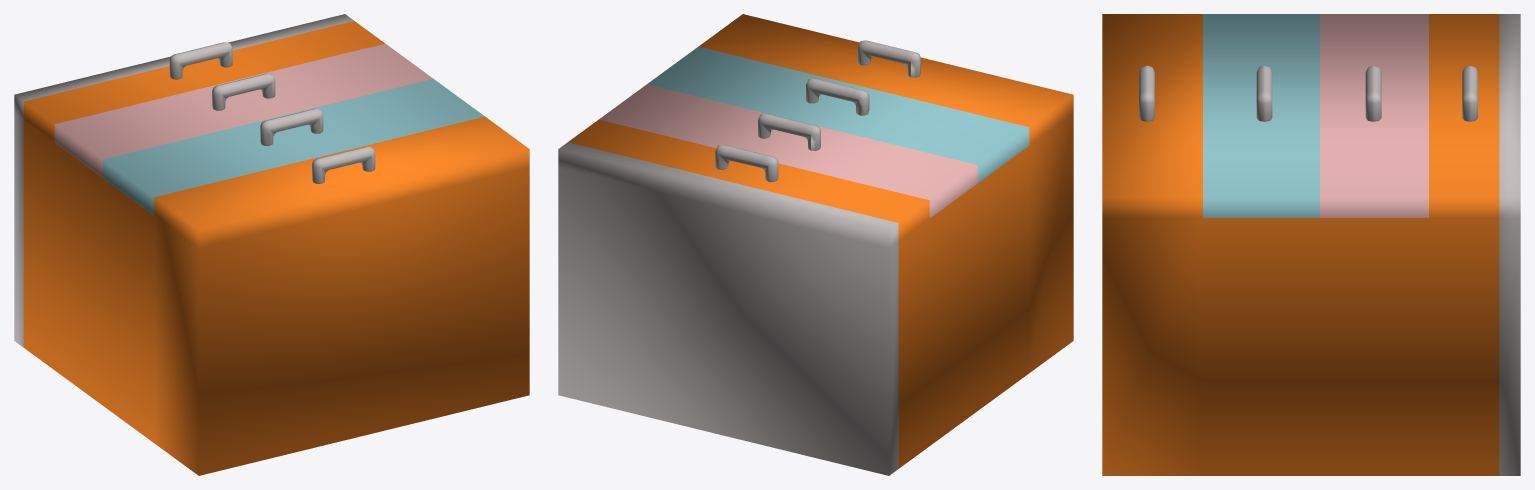
The picture shows the model from 3 angles, left to right: view 1: azimuth 30°, elevation 25°; view 2: azimuth 150°, elevation 25°; view 3: azimuth 270°, elevation 25°; orthographic projection. The views are drawn at different scales.
Parts seen in each view (by area): view 1: Cube.004; view 2: Cube.004; view 3: Cube.004.
Boxes of the visible parts, bbox=[...] form: Cube.004: bbox=[14, 14, 529, 475]; Cube.004: bbox=[558, 14, 1073, 475]; Cube.004: bbox=[1102, 14, 1520, 475].
Bounding box in the file's own units: 90 × 69.79 × 87.
